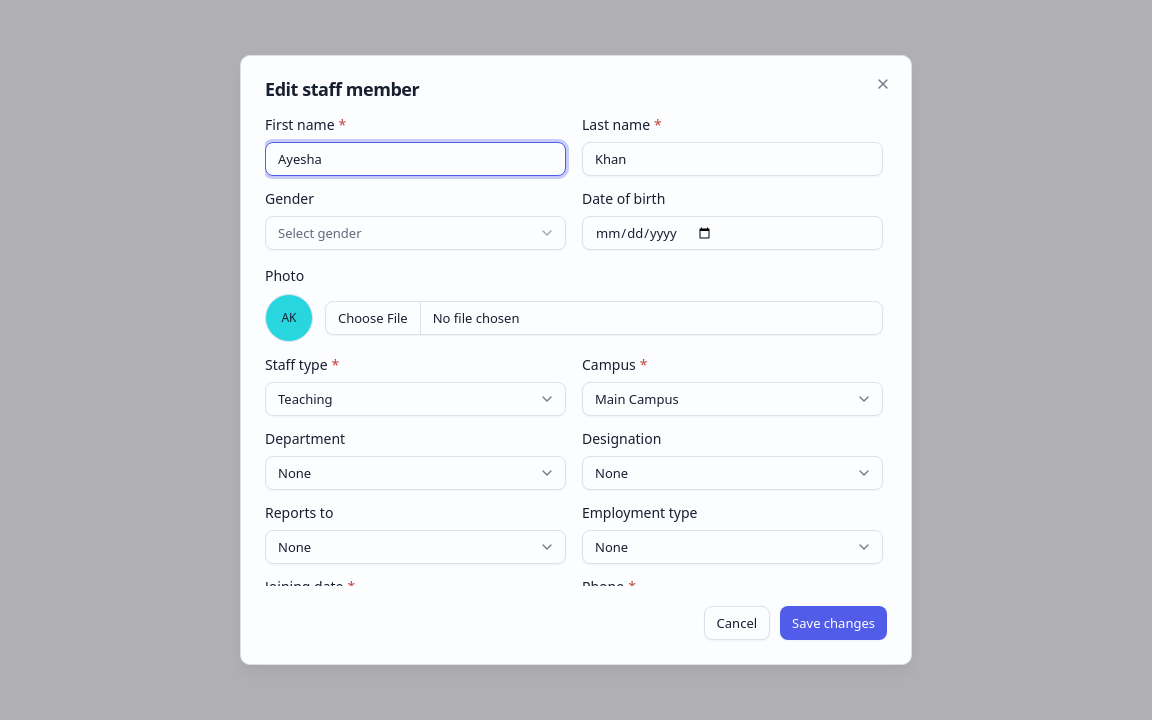
Test: StaffFormDialog › edit mode › excludes the staff member being edited from their own 'Reports to' options
Expected: the field showing "Ayesha" is shown, x1=265 y1=142 x2=566 y2=176
Click the dropdown named "reports to". click: [295, 547]
box: x1=265 y1=530 x2=566 y2=564
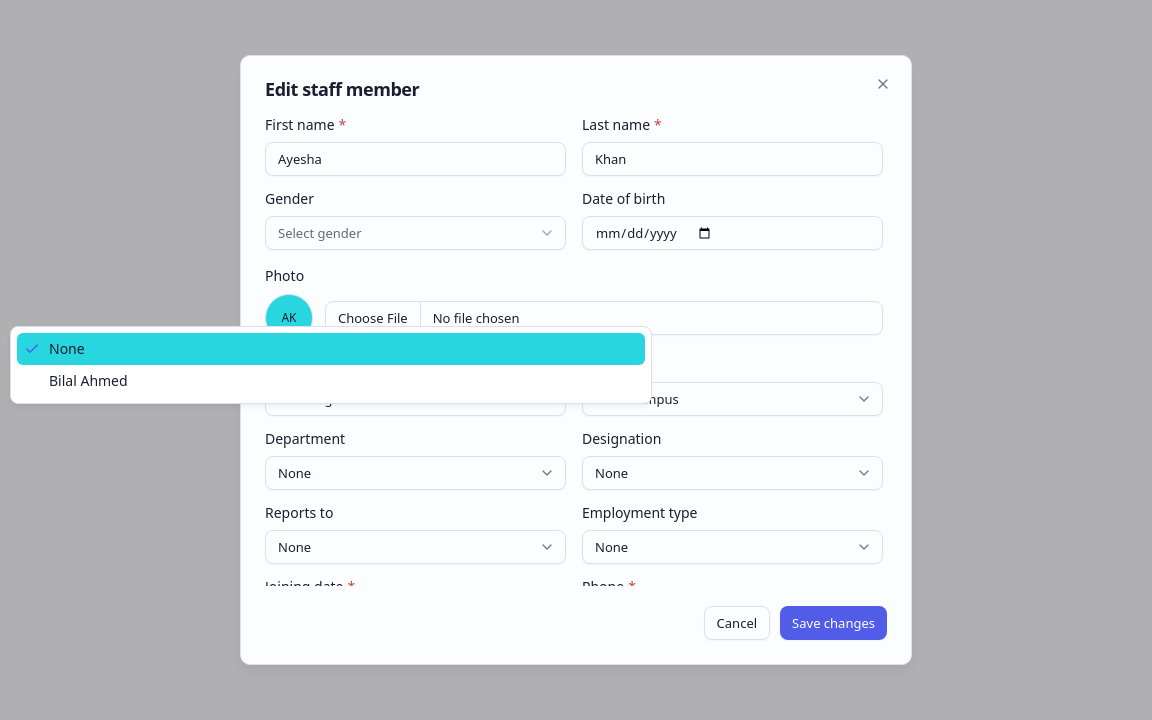
Result: the option "Bilal Ahmed" is shown at x1=49 y1=371 x2=128 y2=390
